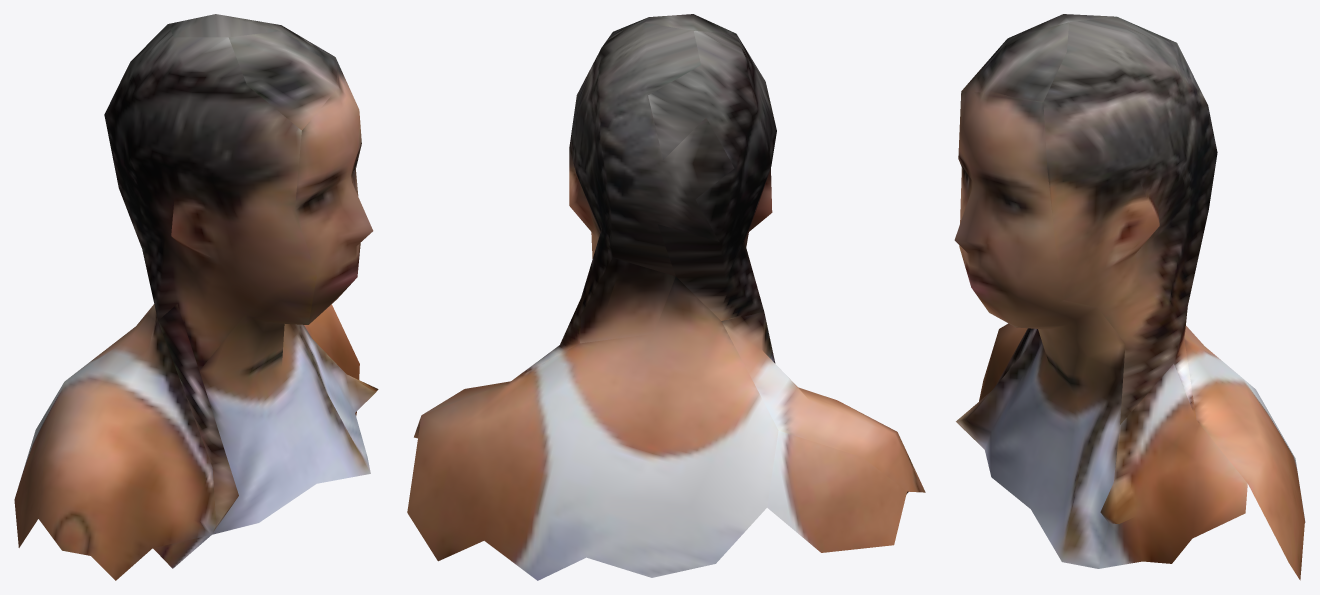
Rendered from laraF1.gltf.
The picture shows the model from 3 angles, left to right: view 1: azimuth 30°, elevation 25°; view 2: azimuth 150°, elevation 25°; view 3: azimuth 270°, elevation 25°; orthographic projection.
Parts seen in each view (by area): view 1: map_4ec7da91-0ed8-4cd5-a4b8-d5e8258cb11b_densified_mesh_tex; view 2: map_4ec7da91-0ed8-4cd5-a4b8-d5e8258cb11b_densified_mesh_tex; view 3: map_4ec7da91-0ed8-4cd5-a4b8-d5e8258cb11b_densified_mesh_tex.
Part boxes in pixels (left/top/right/bottom): map_4ec7da91-0ed8-4cd5-a4b8-d5e8258cb11b_densified_mesh_tex: left=14, top=14, right=378, bottom=580; map_4ec7da91-0ed8-4cd5-a4b8-d5e8258cb11b_densified_mesh_tex: left=407, top=14, right=925, bottom=580; map_4ec7da91-0ed8-4cd5-a4b8-d5e8258cb11b_densified_mesh_tex: left=954, top=14, right=1305, bottom=580.
Size of the model in its own units: 0.3524 by 0.4081 by 0.2657.
Materials: 1 (1 with a texture image).
